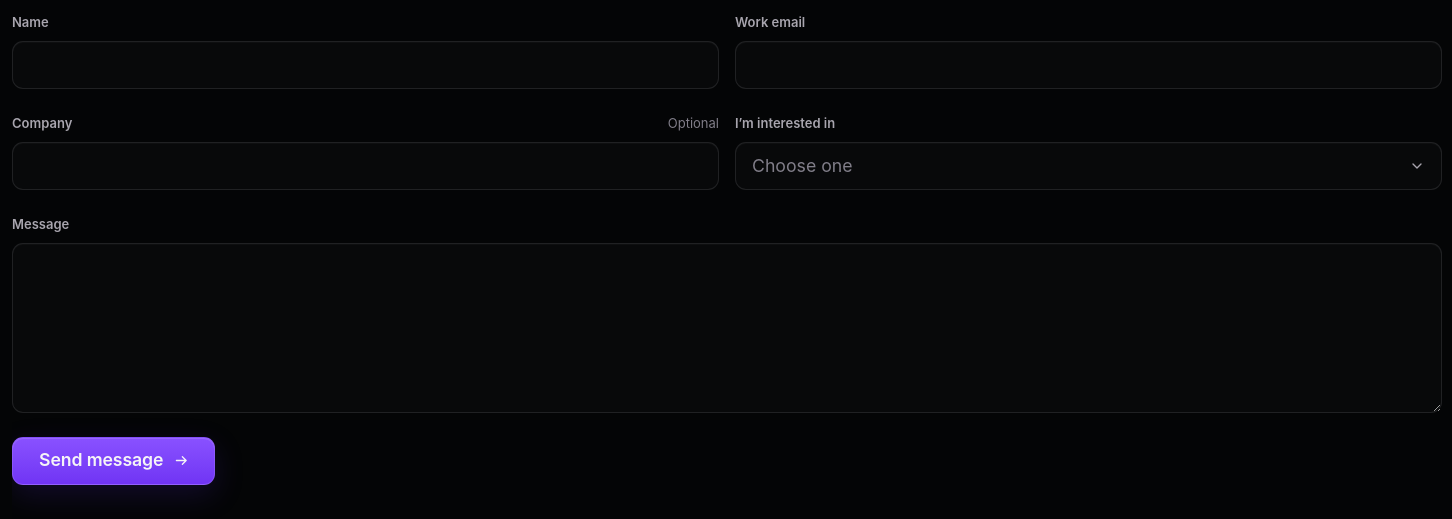
Test case: ContactForm › shows success only after the server confirms, and sends once
The image size is (1452, 519).
Type "Ada Lovelace" into the field labelled "Name" at (366, 65), box [12,41,719,89]
Type "ada@operator.example" into the field labelled "Work email" at (1088, 65), box [735,41,1442,89]
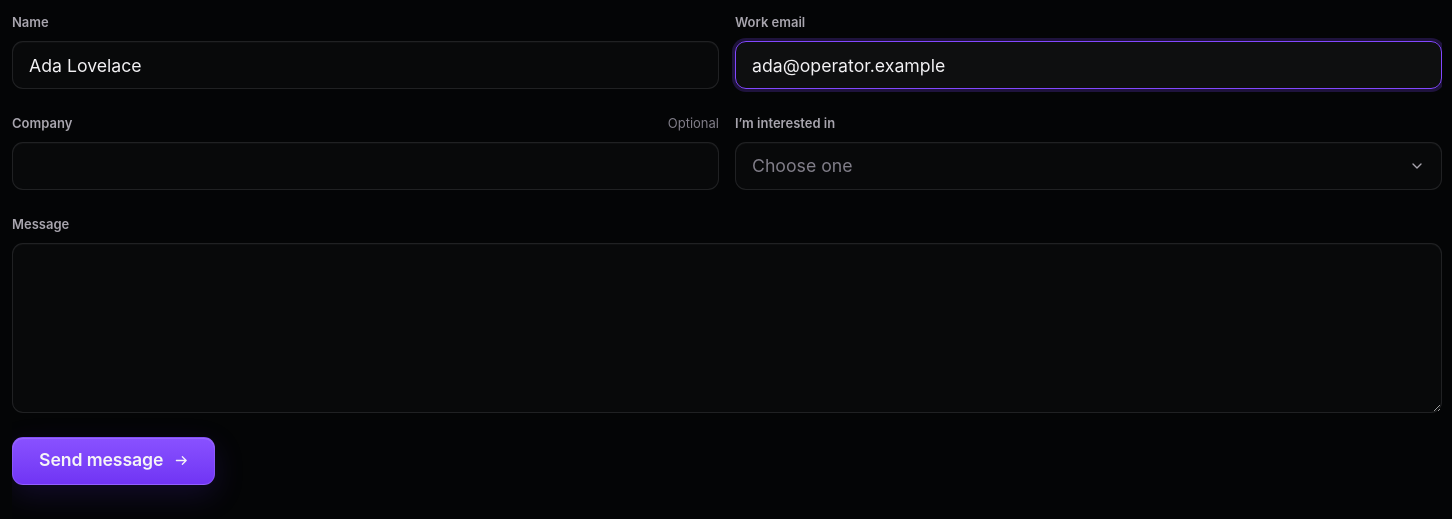
Click the dropdown named "I’m interested in" at (802, 165), box [735,142,1442,190]
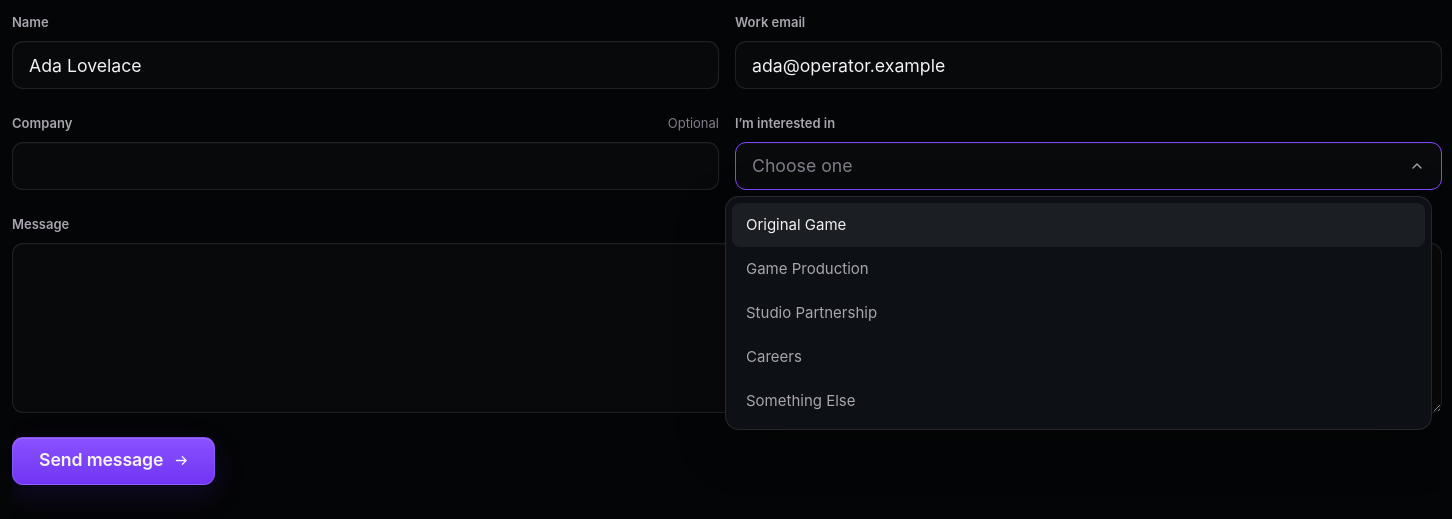
Click the option "Game Production" at (807, 268), box [746,259,869,278]
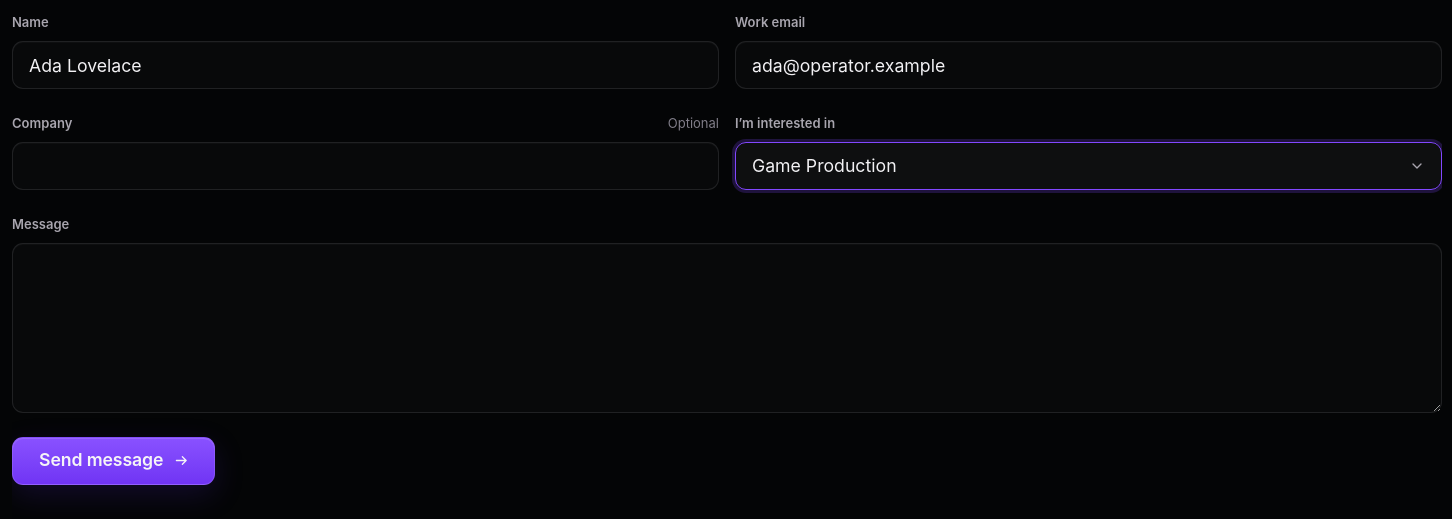
Type "We would like to discuss game production." into the text box labelled "Message" at (727, 328), box [12,243,1442,413]
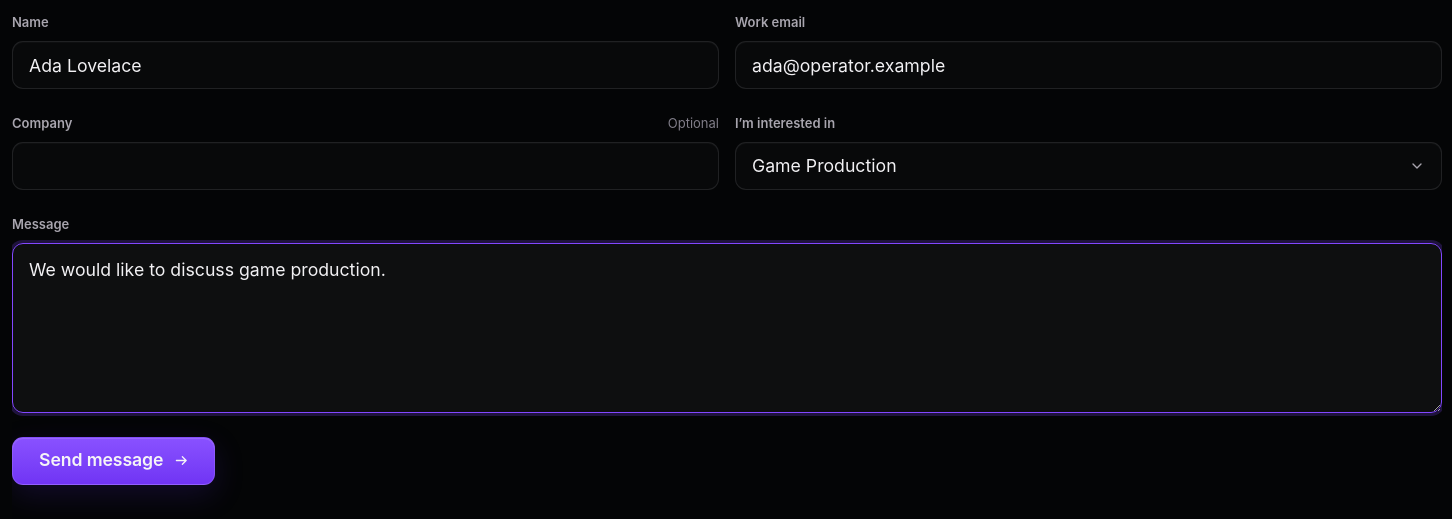
Click the button "Send message" at (114, 461), box [12,437,215,485]
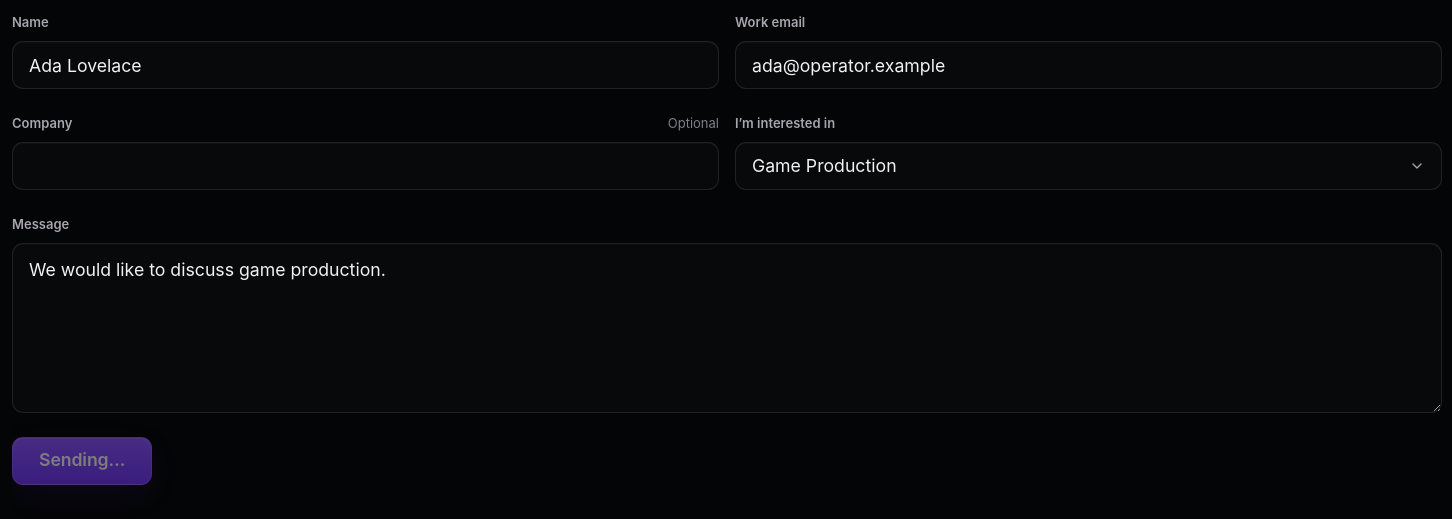
Expected: the button "Sending…" is disabled
Click the button "Sending…" at (82, 461), box [12,437,152,485]
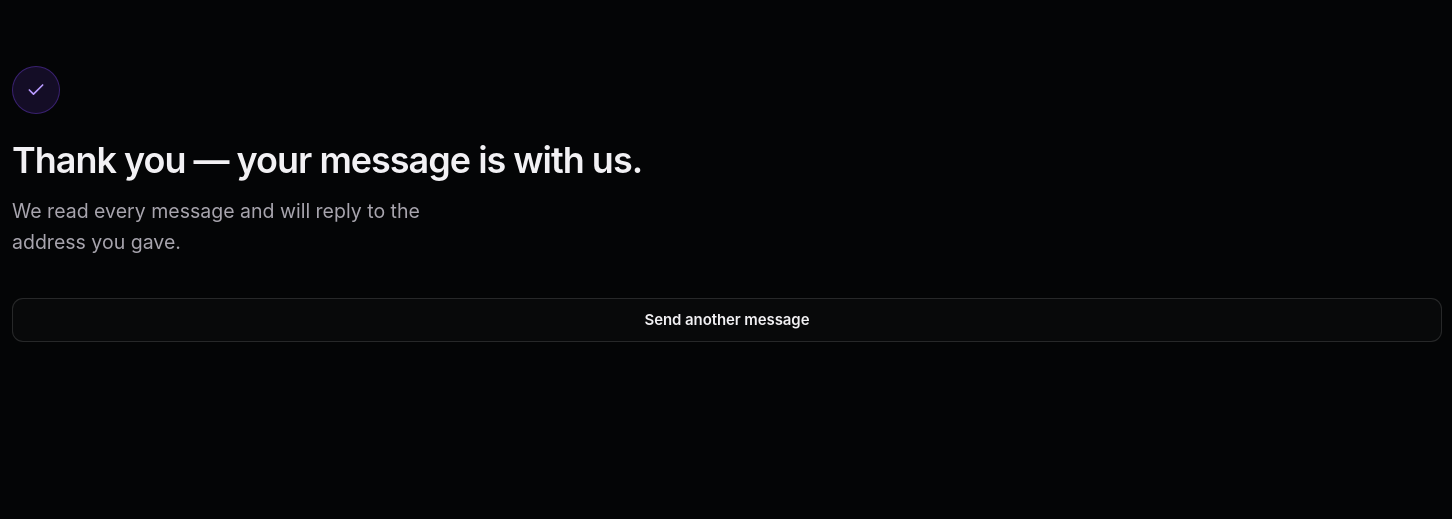
Expected: the heading "Thank you — your message is with us." is shown, [12,138,642,182]
